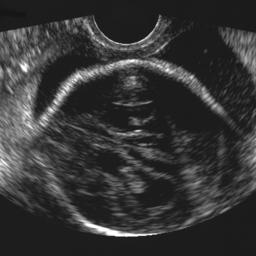abnormal: (38, 58, 237, 240)
